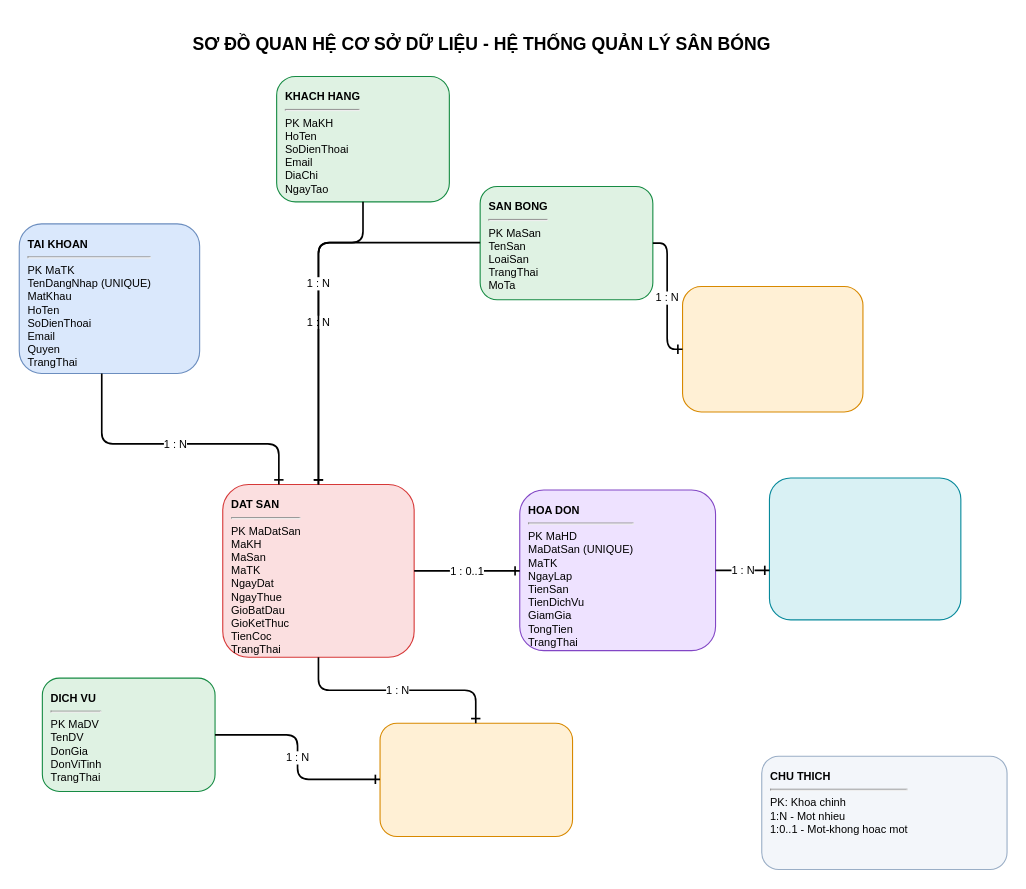
This 1026x889 diagram has some shape labels left out. Here are the shapes that lost their labels. From the top down, the centre of each, then its label:
At (772,348): "BANG GIA PK MaGia MaSan KhungGio DonGia NgayApDung NgayKetThuc".
At (864,548): "THANH TOAN PK MaTT MaHD NgayThanhToan SoTien PhuongThuc MaGiaoDich TrangThai".
At (476,779): "CHI TIET DICH VU PK MaDatSan PK MaDV SoLuong DonGiaApDung ThanhTien".
